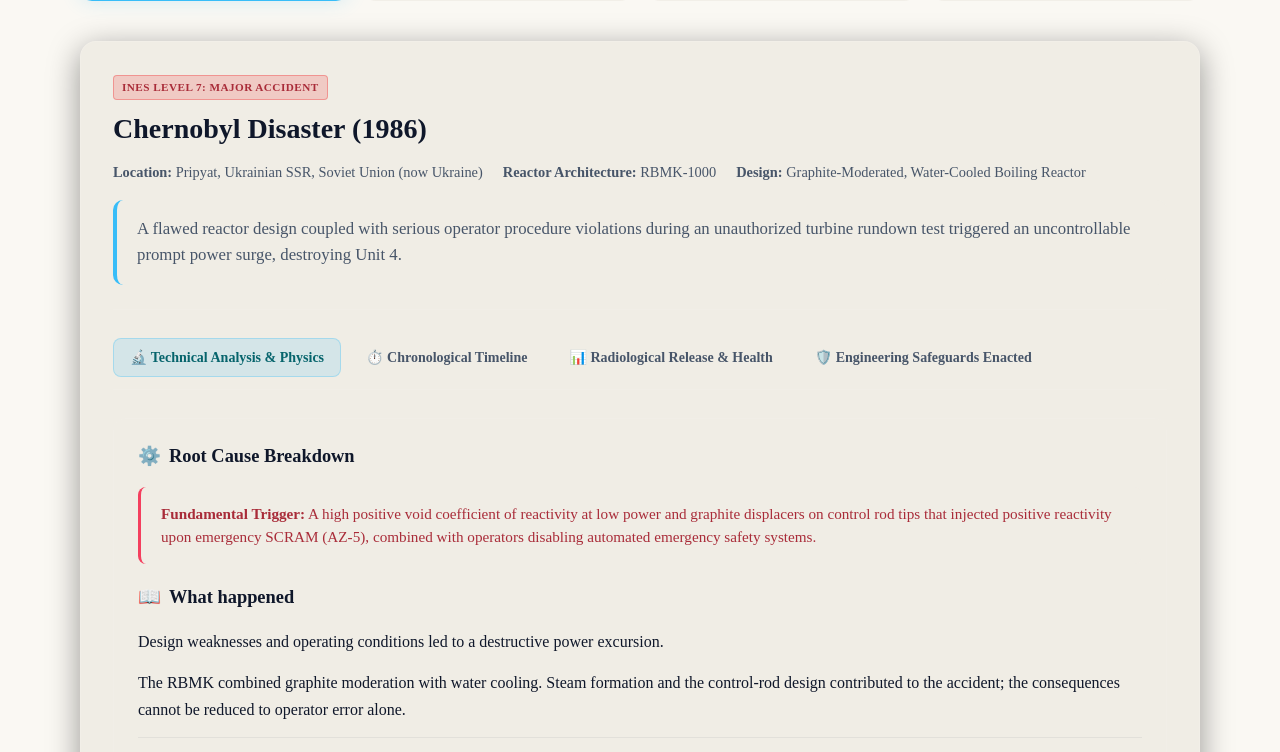
Scenario: IncidentViewer Component › navigates through incident sub-tabs (timeline, health, lessons)
(page scrolled)
Step 1. Click the tab "⏱️ Chronological Timeline" → (447, 358), box [349, 338, 544, 377]
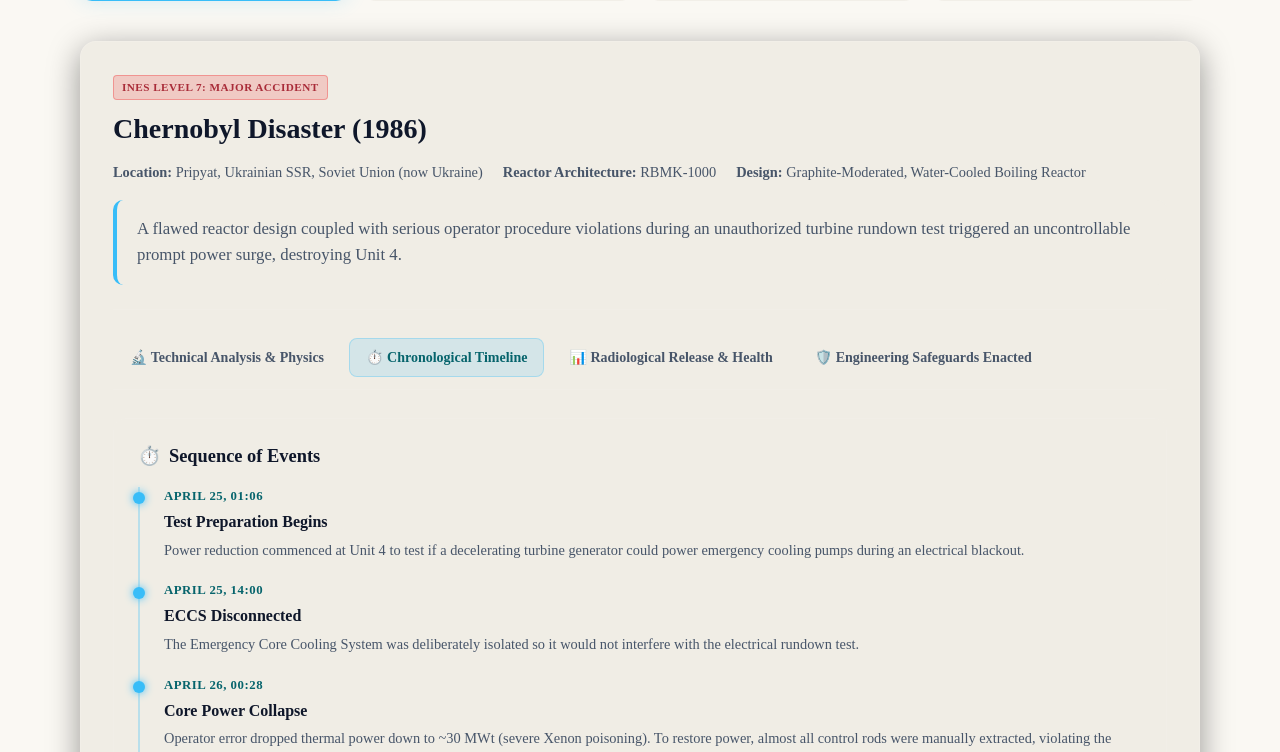
Now the heading "⏱️ Sequence of Events" is shown, box [138, 446, 320, 466]
Step 2. Click the tab "📊 Radiological Release & Health" → (671, 358), box [552, 338, 790, 377]
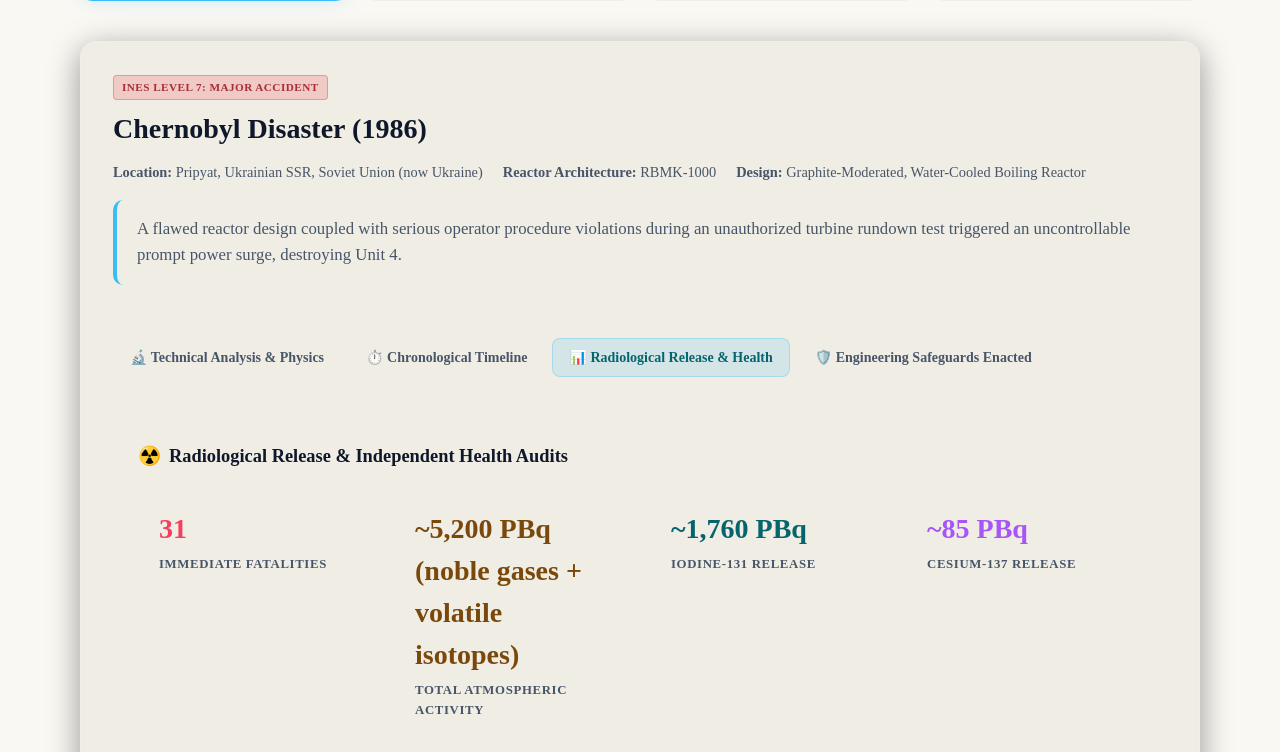
Now the heading "☢️ Radiological Release & Independent Health Audits" is shown, box [138, 446, 568, 466]
Now the text "Immediate Fatalities" is shown, box [159, 556, 353, 575]
Now the text "31" is shown, box [159, 513, 187, 544]
Step 3. Click the tab "🛡️ Engineering Safeguards Enacted" → (923, 358), box [798, 338, 1049, 377]
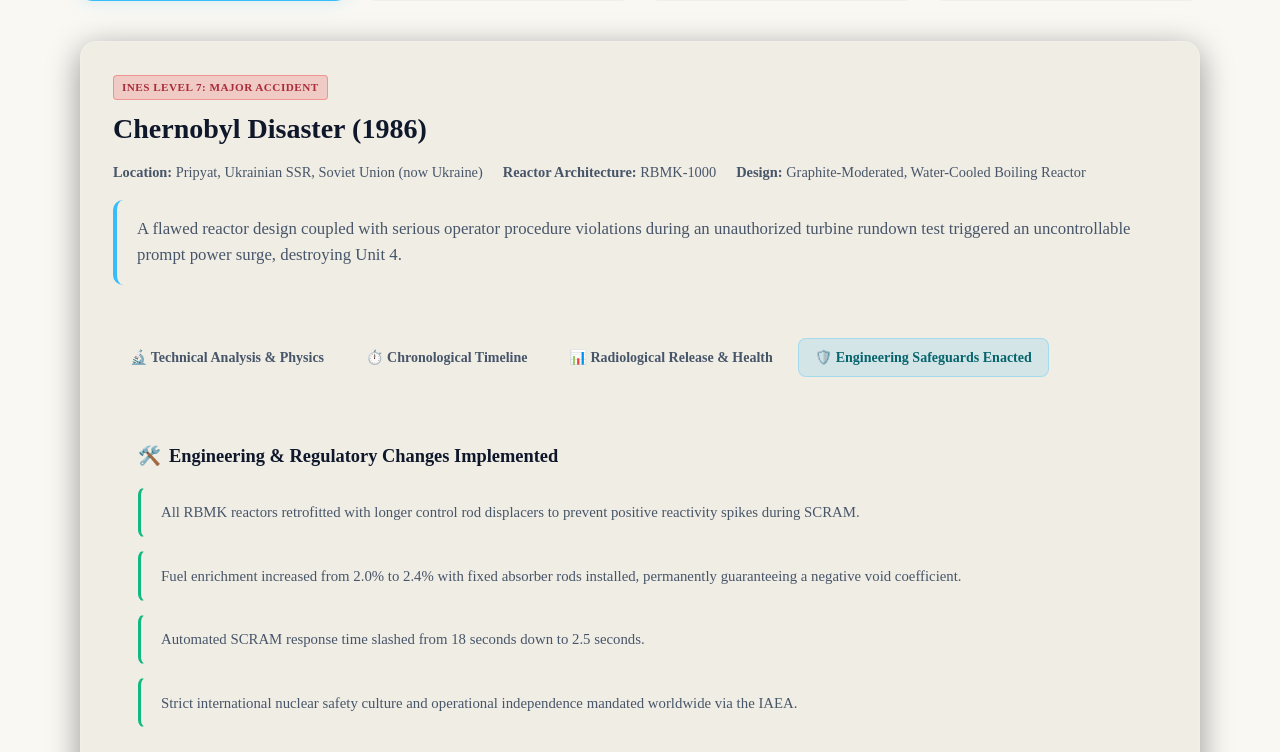
Now the heading "🛠️ Engineering & Regulatory Changes Implemented" is shown, box [138, 446, 558, 466]
Now the list item "longer control rod displacers" is shown, box [161, 504, 860, 520]
